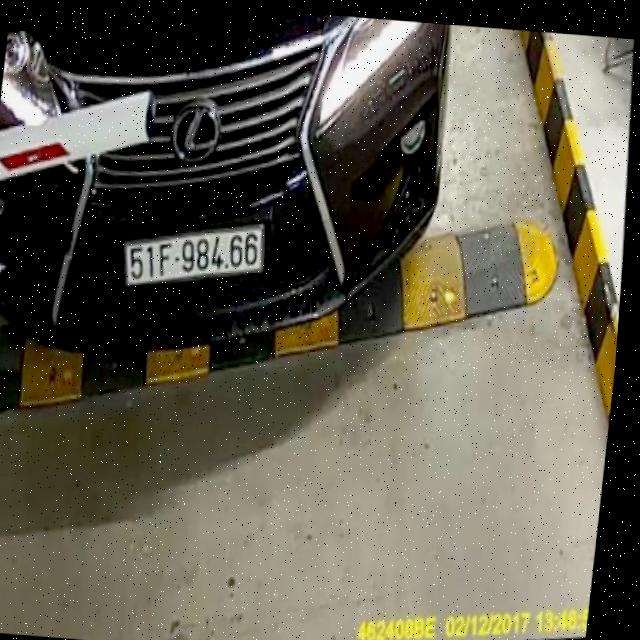car: (0, 0, 461, 384)
plate: (118, 213, 268, 296)
